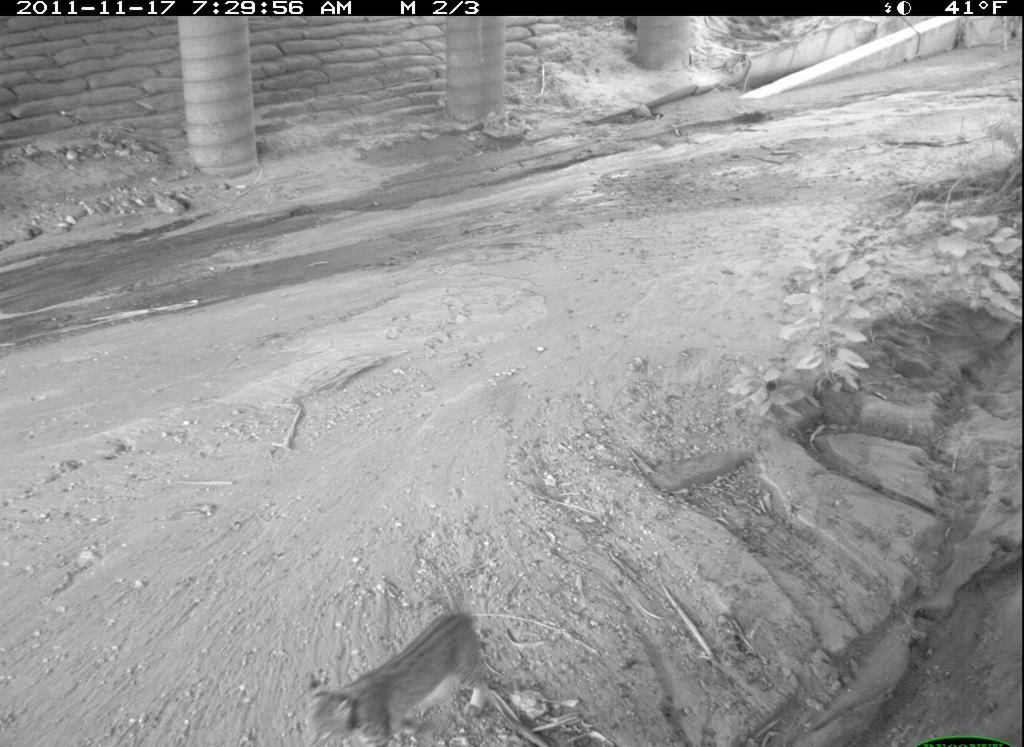bobcat: (297, 607, 493, 747)
